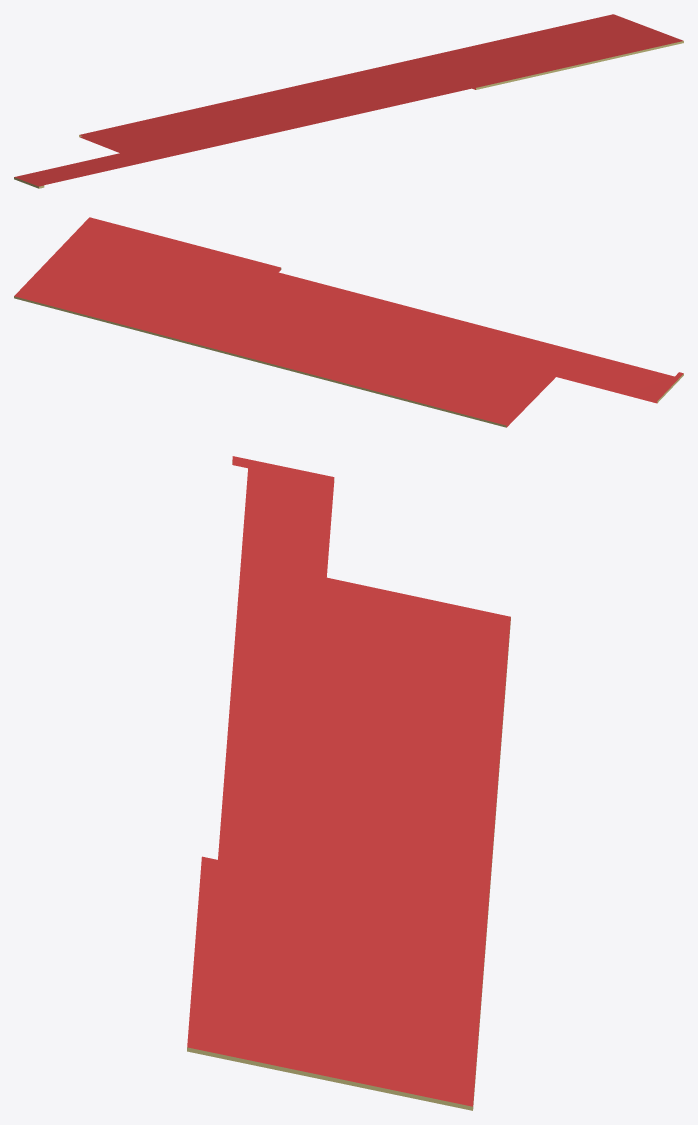
3 renders of one model, top to bottom at view 1: azimuth 30°, elevation 25°; view 2: azimuth 150°, elevation 25°; view 3: azimuth 270°, elevation 25°, orthographic. The views are drawn at different scales.
Size of the model in its own units: 30.61 by 7.03 by 1.43.
